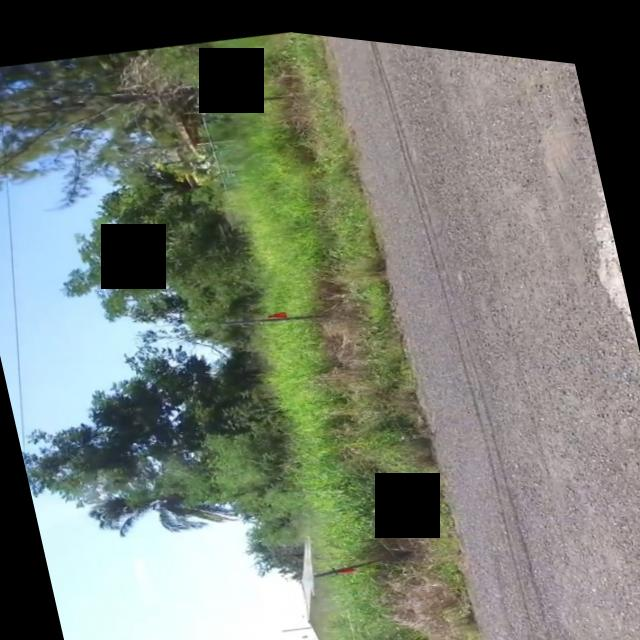Pole: (215, 285, 330, 335), (194, 74, 286, 119), (310, 538, 390, 584)
